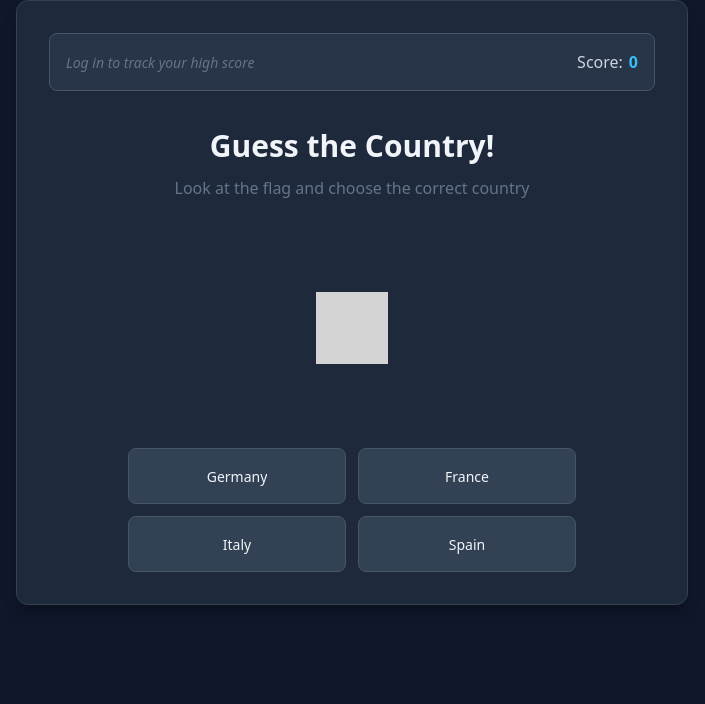
Test: GameBoard › disables answer buttons after submitting
The width and height of the screenshot is (705, 704).
Click the button with class "answer-btn" showing "Germany": (237, 476) x1=128 y1=448 x2=346 y2=504
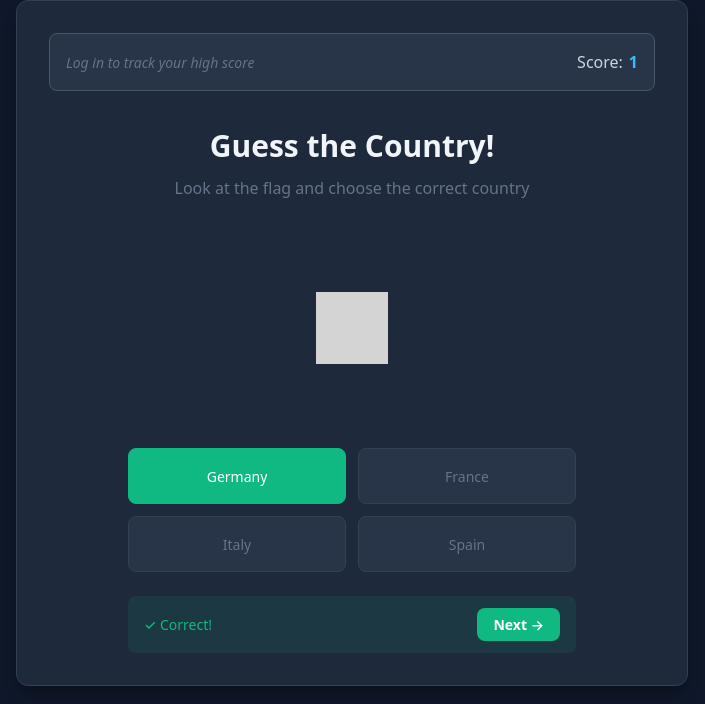
Now the button with class "answer-btn" showing "Germany" is disabled, box x1=128 y1=448 x2=346 y2=504
Now the button with class "answer-btn" showing "France" is disabled, box x1=358 y1=448 x2=576 y2=504
Now the button with class "answer-btn" showing "Italy" is disabled, box x1=128 y1=516 x2=346 y2=572
